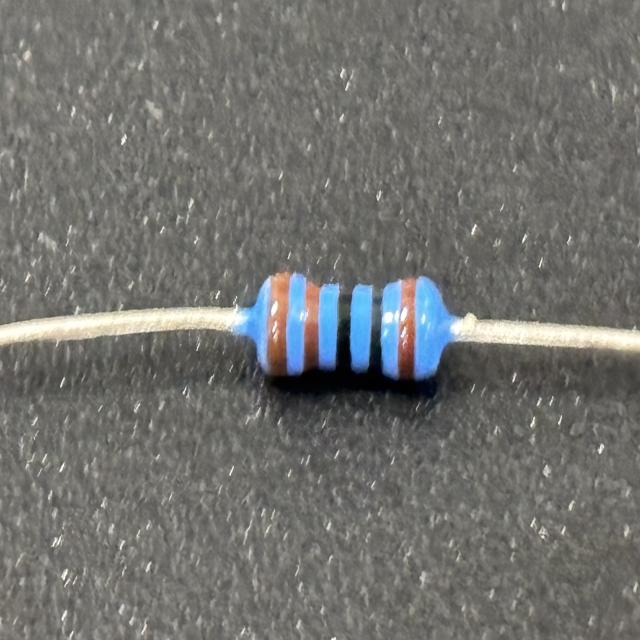resistor: (261, 268, 442, 384)
